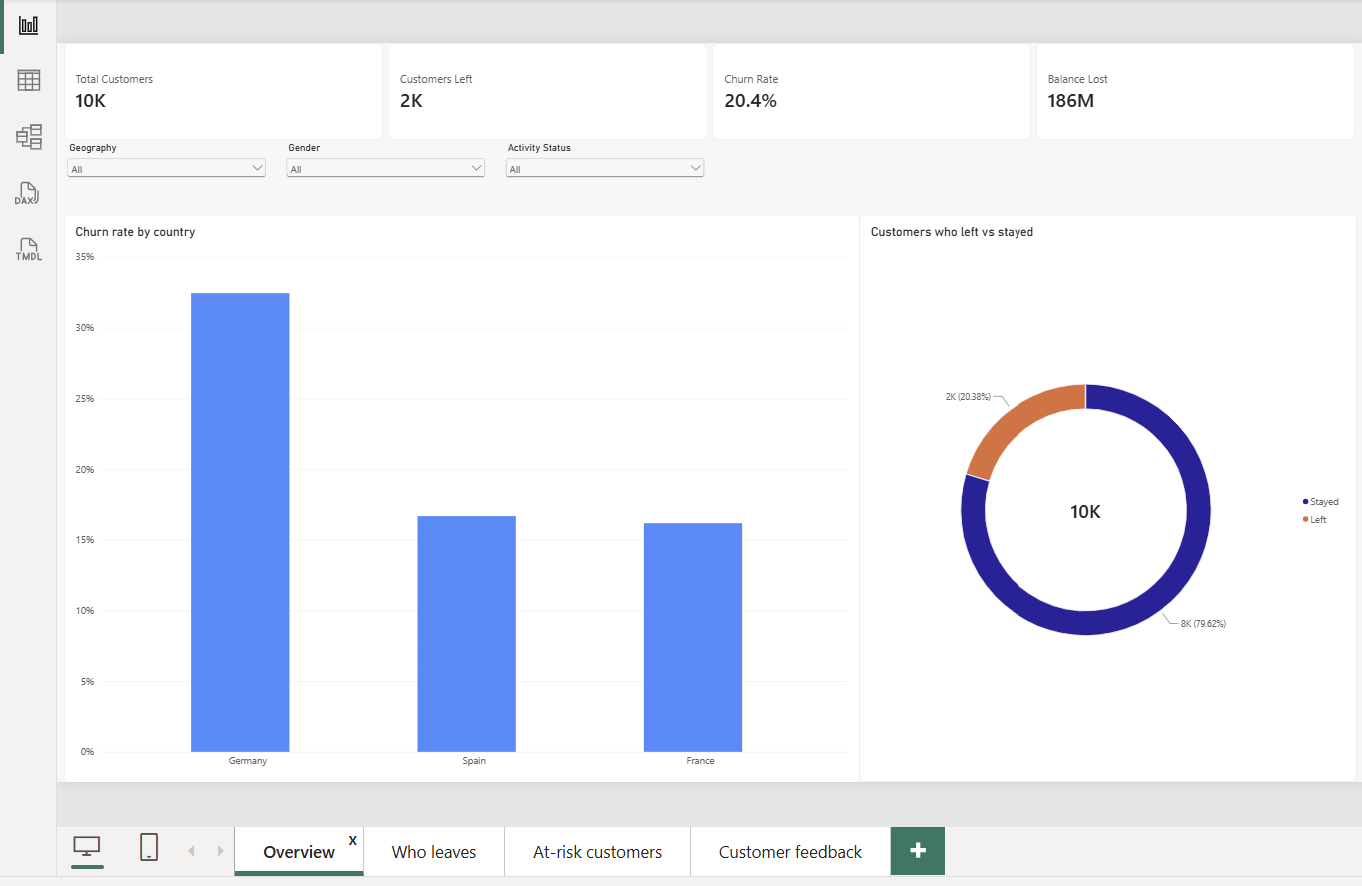

What the dashboard file says about the page in this screenshot:
{"tool":"powerbi","page":{"name":"Overview","canvas":[1920,1080],"ordinal":0},"visuals":[{"type":"cardVisual","fields":{"Data":["bank_customers.Total Customers","bank_customers.Customers Left","bank_customers.Churn Rate","bank_customers.Balance Lost"]},"box":[10.2,0,1890.7,142.8],"z":0},{"type":"clusteredColumnChart","title":"Churn rate by country","fields":{"Category":["bank_customers.Geography"],"Y":["bank_customers.Churn Rate"]},"box":[10.2,250.9,1162.6,830.1],"z":1},{"type":"donutChart","title":"Customers who left vs stayed","fields":{"Category":["bank_customers.Status"],"Y":["bank_customers.Total Customers"]},"box":[1173,251,728,829],"z":2},{"type":"slicer","fields":{"Values":["bank_customers.Geography"]},"box":[10,145,300,90],"z":3},{"type":"slicer","fields":{"Values":["bank_customers.Gender"]},"box":[330,145,300,90],"z":4},{"type":"slicer","fields":{"Values":["bank_customers.Activity Status"]},"box":[650,145,300,90],"z":5}]}

Visuals, with their boxes on the page's 1920x1080 design canvas (x1, y1, x2, y2). These are canvas units, not pixel positions in the 1362x886 screenshot, which may show the page scaled, cropped or inside an application window:
cardVisual - bank_customers.Total Customers x bank_customers.Customers Left: pyautogui.locateOnScreen(10, 0, 1901, 143)
"Churn rate by country" clusteredColumnChart: pyautogui.locateOnScreen(10, 251, 1173, 1081)
"Customers who left vs stayed" donutChart: pyautogui.locateOnScreen(1173, 251, 1901, 1080)
slicer - bank_customers.Geography: pyautogui.locateOnScreen(10, 145, 310, 235)
slicer - bank_customers.Gender: pyautogui.locateOnScreen(330, 145, 630, 235)
slicer - bank_customers.Activity Status: pyautogui.locateOnScreen(650, 145, 950, 235)
